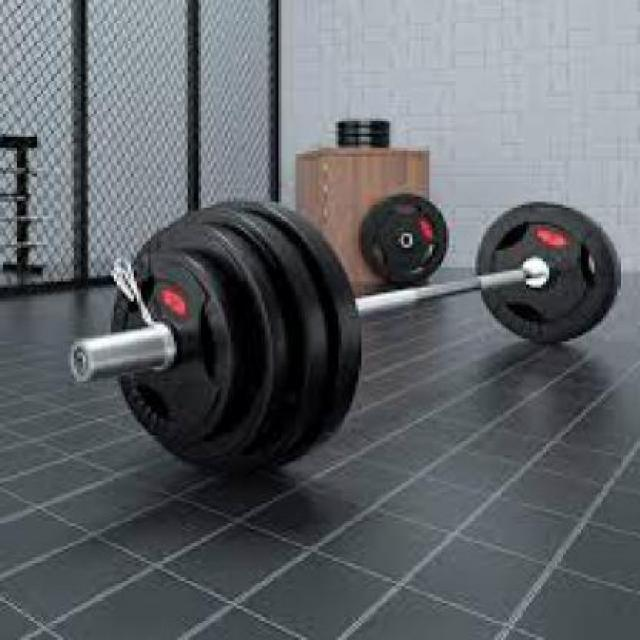Barbell: (60, 330, 114, 390)
